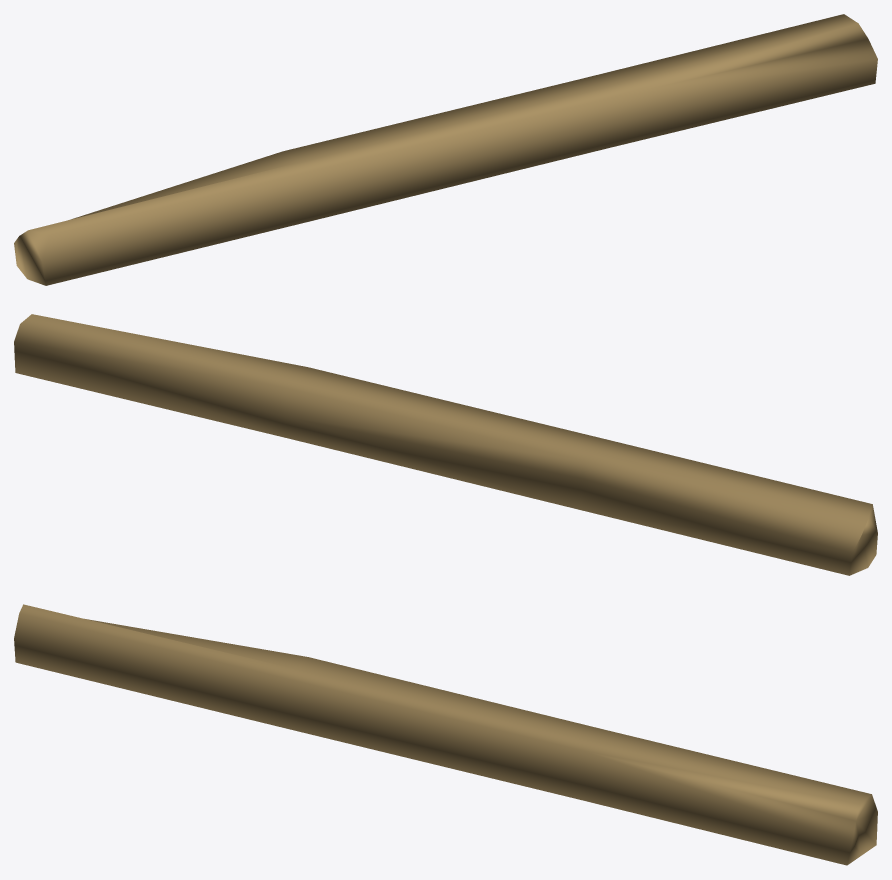
File: Beam_Long_02.fbx
The picture shows the model from 3 angles, top to bottom: view 1: azimuth 30°, elevation 25°; view 2: azimuth 150°, elevation 25°; view 3: azimuth 330°, elevation 25°; orthographic projection.
Visible parts, largest first — view 1: Beam_Long_02; view 2: Beam_Long_02; view 3: Beam_Long_02.
Part boxes in pixels (<box>): Beam_Long_02: <box>14,14,877,285</box>; Beam_Long_02: <box>14,314,877,575</box>; Beam_Long_02: <box>14,604,877,865</box>.
Bounding box in the file's own units: 302 × 18.18 × 18.65.
